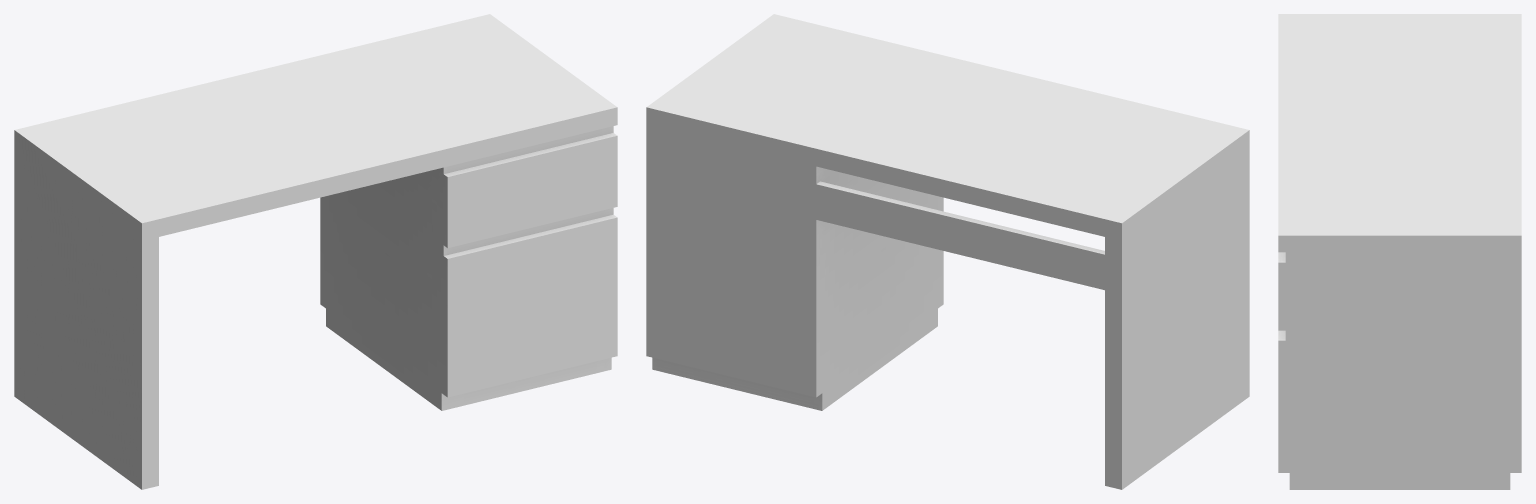
File: table-desk.glb
The picture shows the model from 3 angles, left to right: view 1: azimuth 30°, elevation 25°; view 2: azimuth 150°, elevation 25°; view 3: azimuth 270°, elevation 25°; orthographic projection. The views are drawn at different scales.
Parts seen in each view (by area): view 1: Object_2; view 2: Object_2; view 3: Object_2.
Part boxes in pixels (x1,y1,x2,y2): Object_2: (14, 14, 617, 489); Object_2: (646, 14, 1249, 489); Object_2: (1278, 14, 1521, 489).
Bounding box in the file's own units: 1.4 × 0.75 × 0.65.
Materials: 1 (1 with a texture image).
